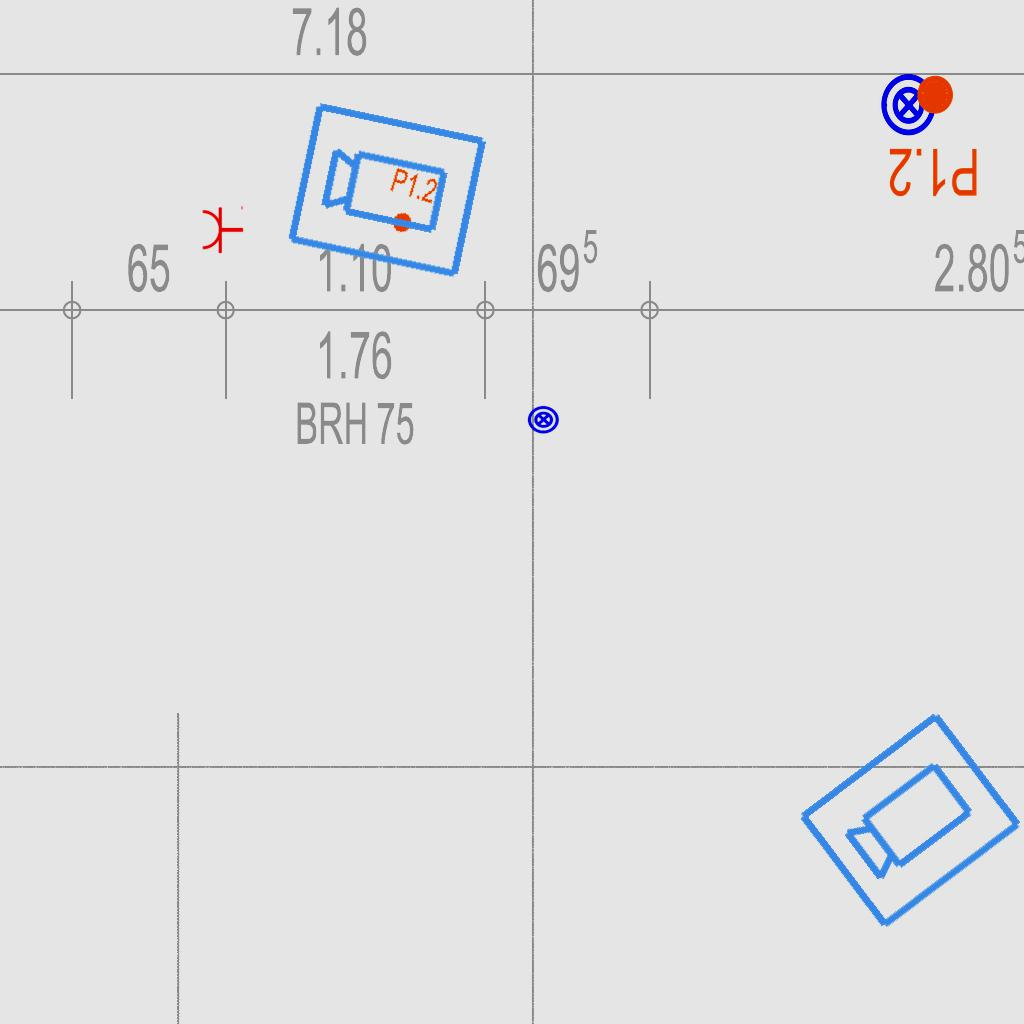Downlight_LED_Einbauleuchten_Flur: (887, 72, 980, 200), (377, 165, 441, 241)
KFO_Kamera_mit_Festobjektiv: (790, 702, 1024, 936), (282, 94, 494, 284)
Schukosteckdose_einfach: (201, 204, 244, 254)
Taster_beleuchtet: (876, 72, 942, 138), (527, 403, 560, 436)
